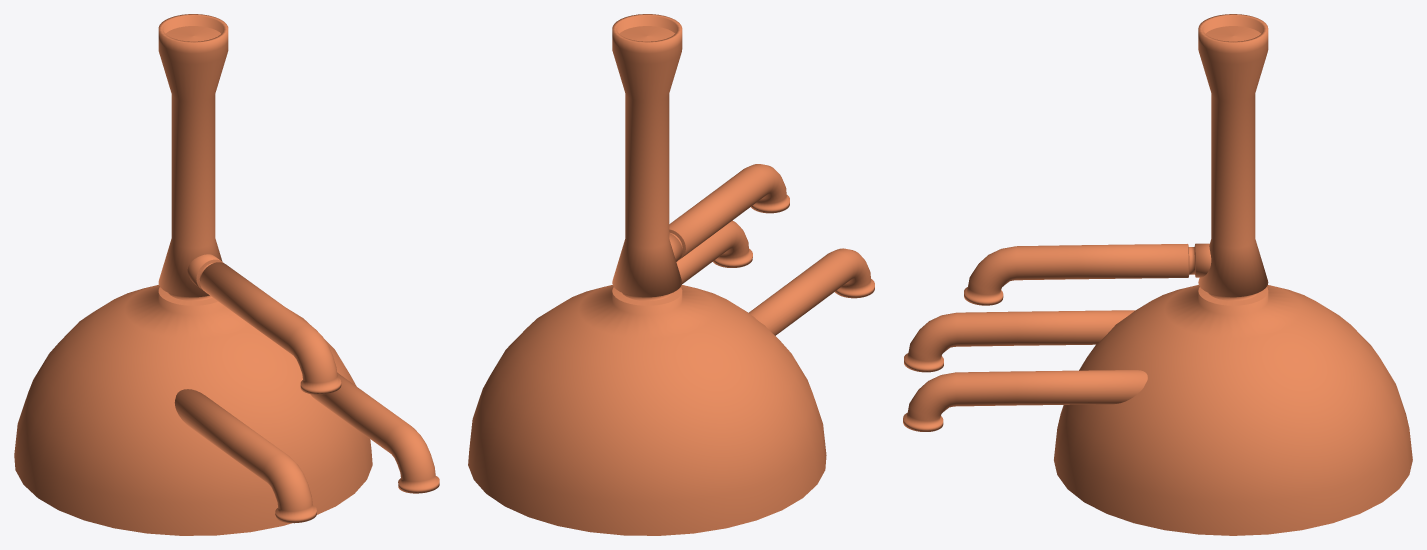
The model's file is kadz2.fbx.
3 views of the same model, side by side, from view 1: azimuth 30°, elevation 25°; view 2: azimuth 150°, elevation 25°; view 3: azimuth 270°, elevation 25° (orthographic).
Parts seen in each view (by area): view 1: Sphere; view 2: Sphere; view 3: Sphere.
Boxes of the visible parts, x1,y1,x2,y2 form: Sphere: (14, 14, 439, 535); Sphere: (468, 14, 874, 535); Sphere: (903, 14, 1412, 535).
Size of the model in its own units: 1308 by 1734 by 1857.
